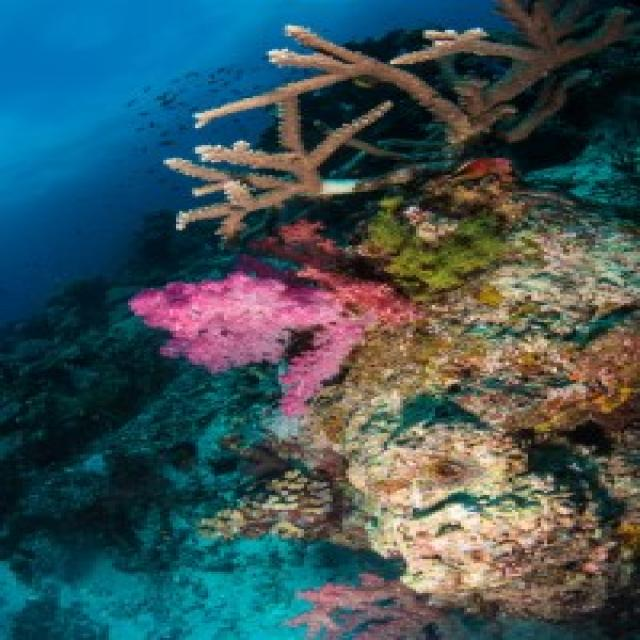Healthy: (270, 1, 628, 148), (132, 259, 369, 413), (164, 103, 398, 229), (430, 509, 638, 618), (241, 221, 420, 323), (500, 330, 638, 438), (353, 426, 526, 507), (353, 199, 503, 289), (423, 159, 571, 227), (292, 575, 443, 639)
